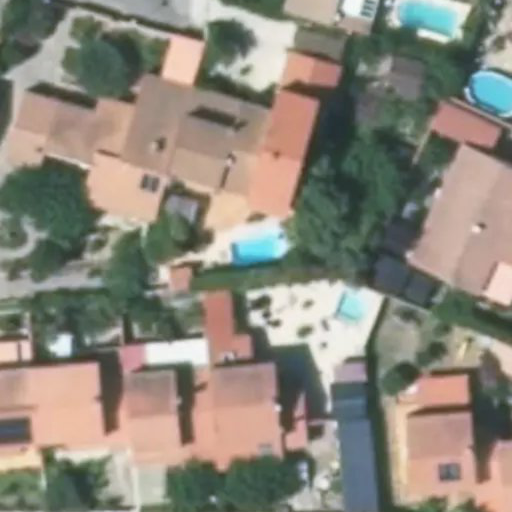pool: (393, 2, 471, 41), (462, 69, 512, 119), (228, 235, 287, 263), (335, 292, 366, 324)
